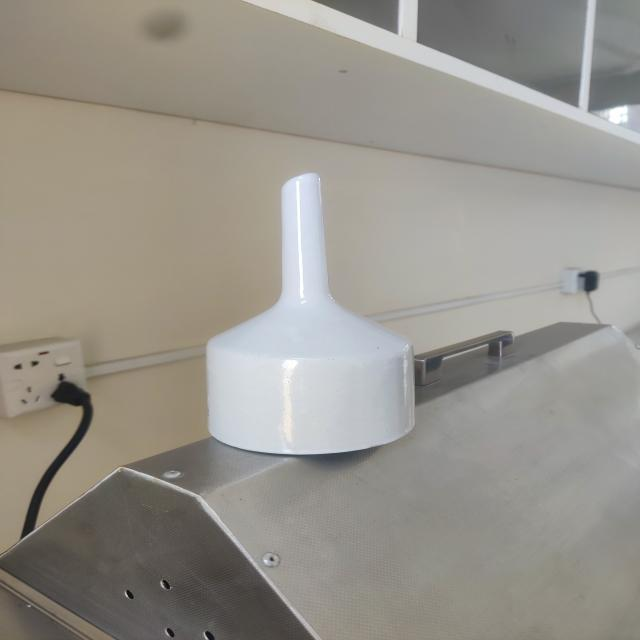Buchner_Funnel: (158, 138, 458, 477)
